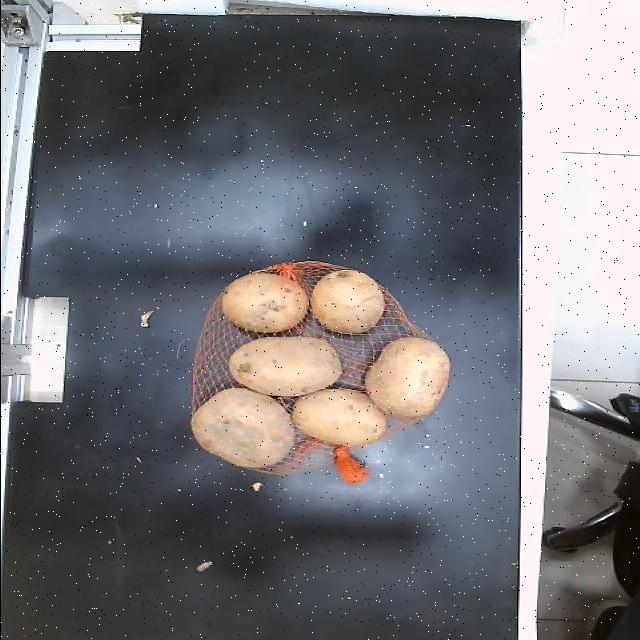potato: (191, 389, 293, 468), (364, 336, 450, 416), (228, 336, 342, 396), (291, 389, 387, 446), (220, 271, 308, 332), (311, 270, 383, 331)
